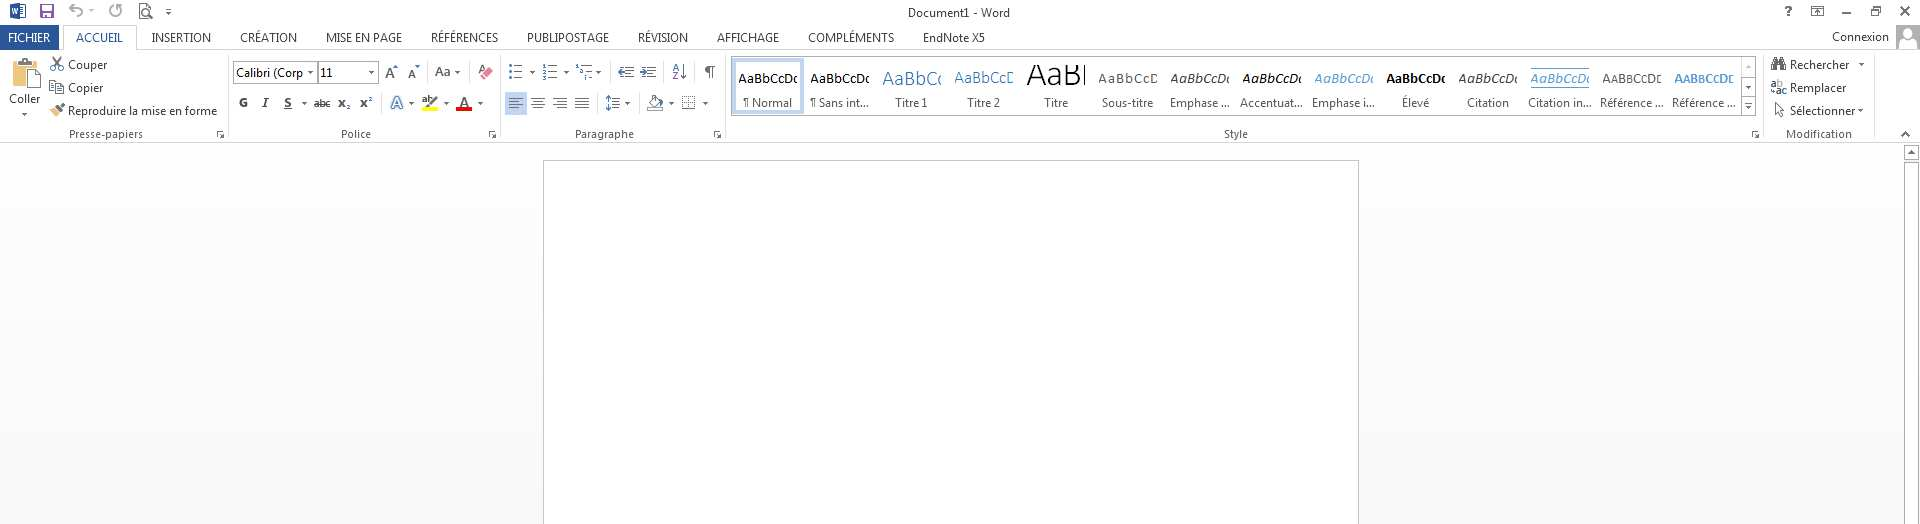texte: (233, 44, 320, 80), (233, 62, 332, 84), (107, 114, 142, 149), (10, 2, 83, 20), (311, 58, 348, 91), (1027, 65, 1085, 84), (342, 113, 371, 148), (811, 98, 927, 107), (809, 31, 894, 42), (50, 56, 107, 72), (984, 0, 1013, 31), (909, 9, 1009, 17), (49, 80, 103, 95), (1752, 130, 1851, 138), (1249, 93, 1289, 114), (420, 95, 471, 111), (647, 95, 696, 111), (883, 71, 940, 84), (69, 107, 137, 118), (432, 31, 498, 42), (1472, 94, 1509, 114), (10, 91, 40, 114), (955, 71, 1013, 83), (528, 33, 609, 42), (1791, 83, 1847, 95), (1767, 44, 1785, 80), (1171, 73, 1229, 84), (758, 93, 789, 114), (1460, 73, 1517, 84), (143, 107, 217, 115), (744, 98, 791, 111), (1537, 94, 1569, 114), (1791, 107, 1862, 115), (1896, 24, 1920, 49), (1468, 91, 1491, 116), (1529, 91, 1553, 116), (811, 73, 869, 83), (1531, 73, 1589, 83), (740, 73, 797, 83), (1100, 73, 1157, 83), (1243, 73, 1300, 83), (1315, 73, 1373, 83), (1387, 73, 1445, 83), (1603, 73, 1660, 83), (1675, 73, 1733, 83), (576, 130, 633, 140), (140, 2, 171, 20), (369, 61, 394, 82), (1600, 91, 1621, 116), (1673, 91, 1693, 116), (639, 31, 687, 42), (718, 33, 779, 42), (924, 33, 984, 42), (152, 33, 211, 42), (1791, 60, 1849, 69), (241, 33, 296, 42), (312, 12, 323, 55), (1833, 32, 1888, 40), (1044, 91, 1062, 118), (1240, 98, 1294, 107), (1573, 94, 1596, 114), (1610, 98, 1660, 107), (50, 91, 64, 122), (1682, 98, 1731, 107), (1771, 91, 1784, 121), (1408, 94, 1429, 114), (76, 33, 122, 42), (975, 22, 988, 51), (313, 99, 350, 109), (1171, 98, 1200, 110), (902, 93, 920, 114), (1103, 98, 1142, 107), (975, 93, 991, 114), (1052, 93, 1068, 114), (70, 130, 104, 138), (1319, 100, 1365, 107), (333, 33, 366, 42), (1400, 91, 1411, 116), (724, 59, 732, 91), (1109, 100, 1153, 107), (1177, 100, 1218, 107), (647, 64, 680, 71), (700, 26, 710, 50), (376, 33, 402, 42), (435, 67, 460, 76), (1224, 130, 1247, 140), (1360, 93, 1370, 114), (479, 65, 492, 80), (1904, 144, 1919, 158), (673, 64, 686, 80), (109, 4, 121, 17), (391, 95, 403, 109), (847, 93, 855, 114), (975, 0, 980, 31), (512, 26, 518, 50), (1330, 98, 1342, 110), (640, 69, 656, 77), (1811, 6, 1824, 16), (705, 66, 715, 78), (969, 98, 981, 107), (393, 65, 420, 69), (1771, 88, 1787, 94), (1900, 6, 1910, 16), (284, 98, 291, 109), (239, 98, 247, 107), (1771, 81, 1782, 87), (262, 98, 269, 107), (831, 100, 841, 107), (1900, 131, 1910, 137), (217, 131, 224, 138), (489, 131, 496, 138), (714, 131, 721, 138), (360, 100, 369, 107), (994, 98, 1000, 107), (444, 102, 449, 107), (1859, 62, 1864, 66), (302, 102, 307, 105), (409, 102, 414, 105), (478, 102, 482, 105), (669, 102, 673, 105), (703, 102, 708, 105), (22, 113, 27, 116), (369, 97, 372, 100), (1842, 12, 1851, 13), (1531, 69, 1589, 69)
